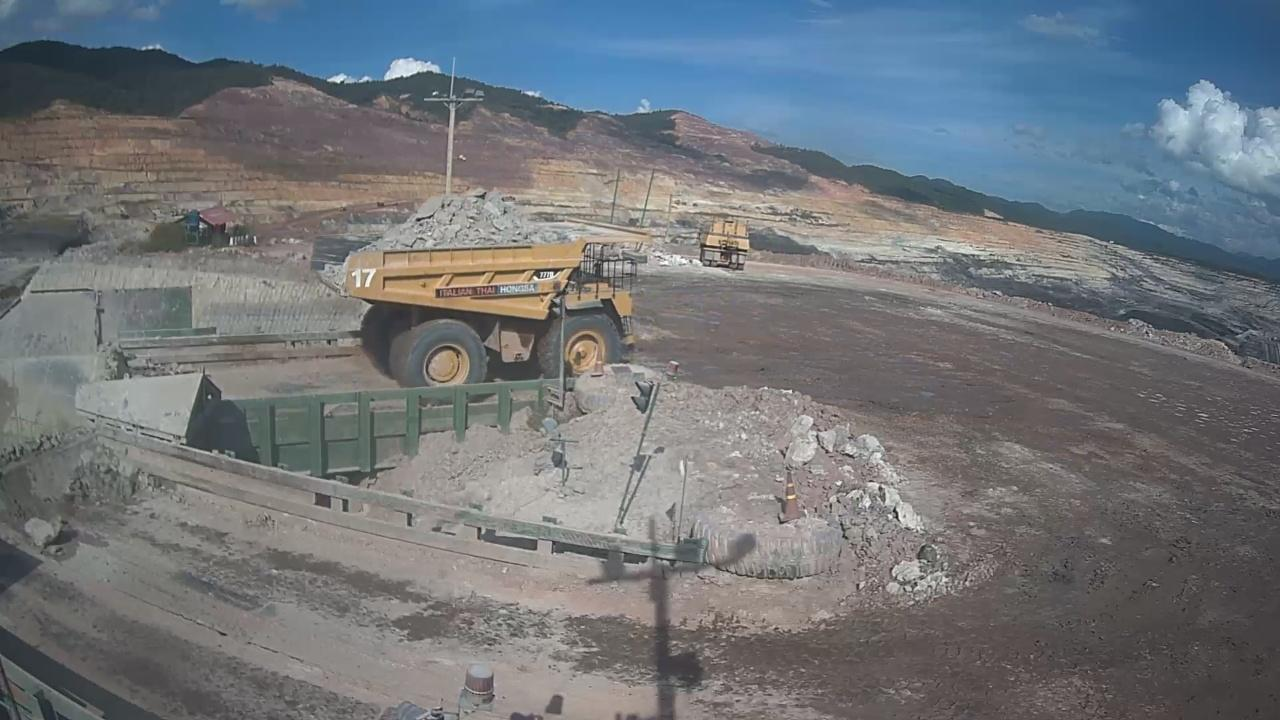company: (429, 283, 550, 297)
full_load: (381, 188, 577, 249)
mining_truck: (311, 168, 658, 398)
tail_number: (350, 267, 379, 293)
truck_size: (533, 267, 562, 282)
